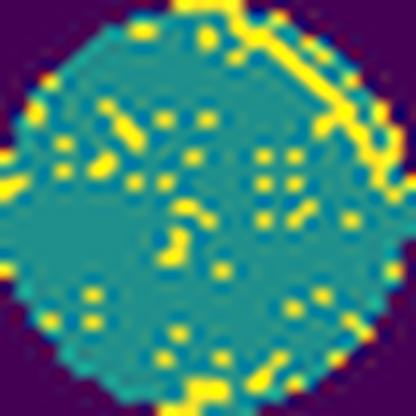Scratch: (167, 0, 415, 208)
